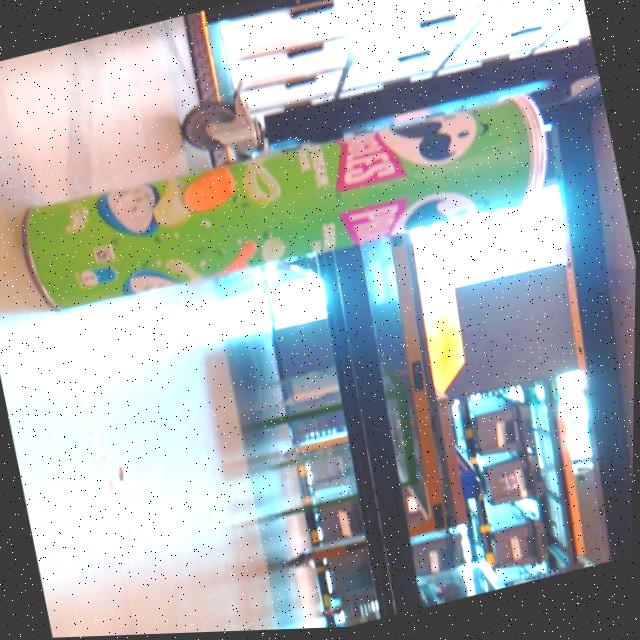greenpringles: (2, 58, 593, 364)
